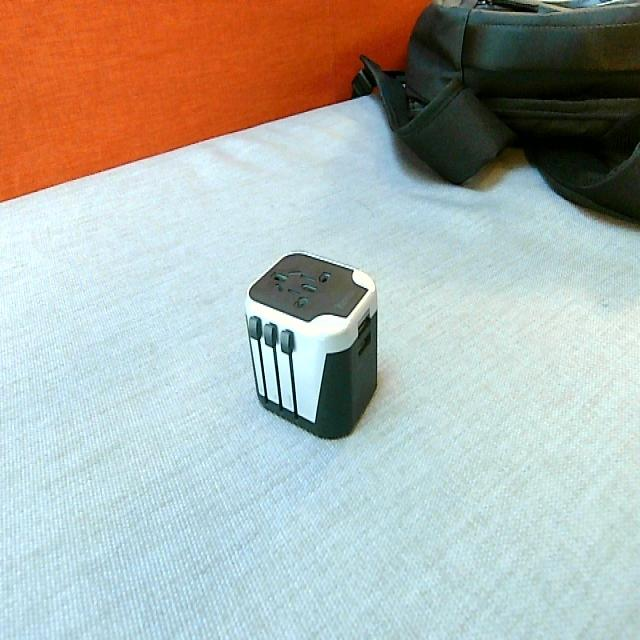adapter: (243, 249, 378, 439)
